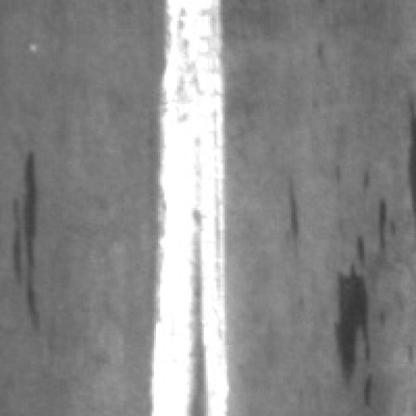inclusion: (337, 231, 379, 391), (13, 146, 46, 322), (281, 171, 310, 247)
scratches: (152, 0, 237, 412)
